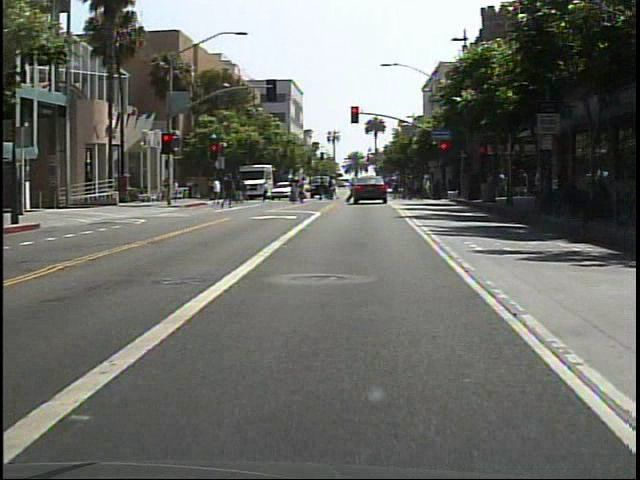person: (219, 173, 239, 210), (345, 168, 361, 207), (296, 173, 313, 206), (207, 178, 224, 209)
